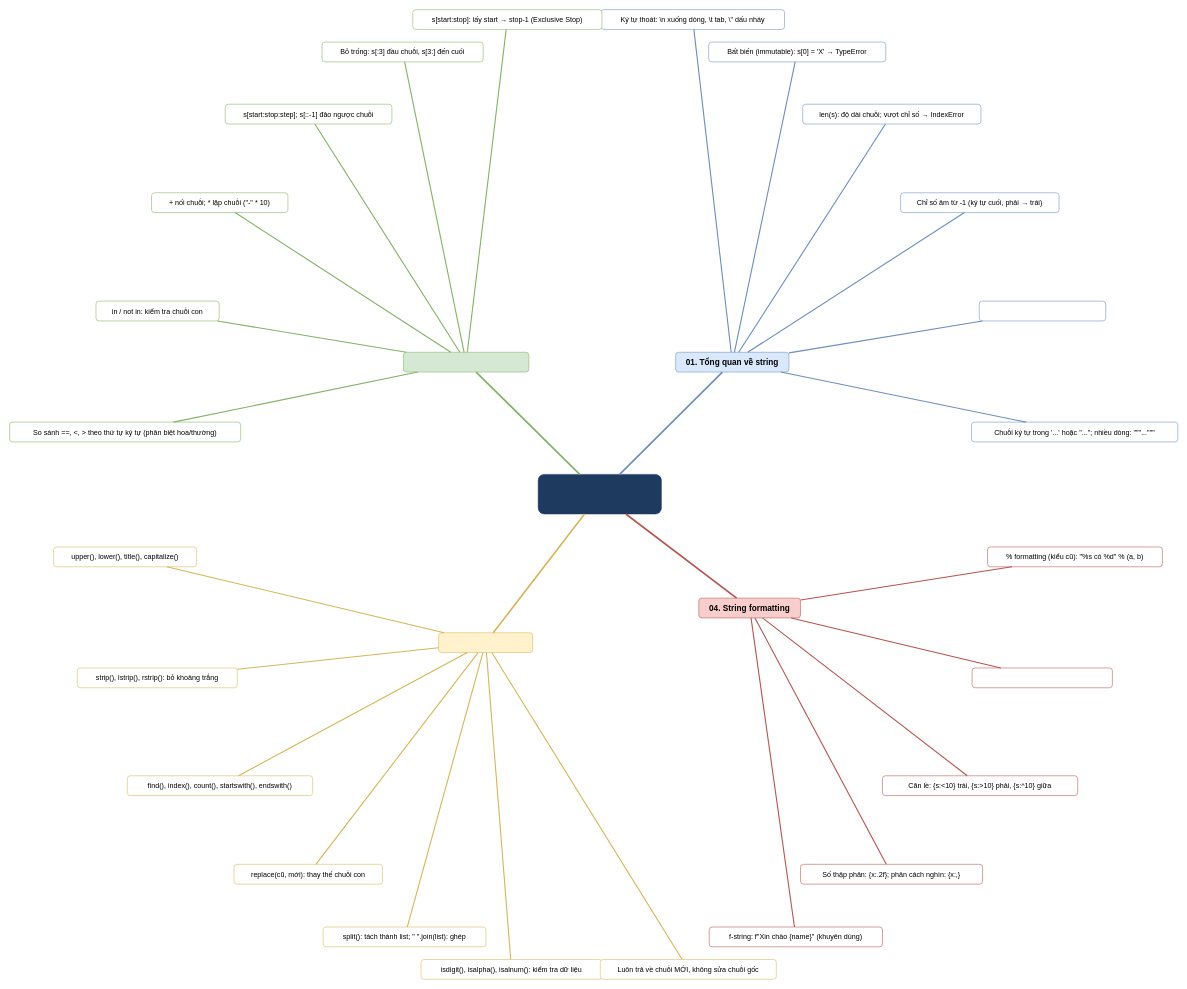
Some shapes in this 1187 by 989 pixel diagram are drawn without their labels. The shapes that lost their labels are listed below. From the top down, each one's centre as x and y in pixels, then its label:
(1042,311): Chỉ số dương từ 0 (trái → phải)
(466,362): 02. Slicing + Toán tử chuỗi
(599,494): Python Session 7 String (Chuỗi)
(485,642): 03. String methods
(1042,677): str.format(): "{} - {}".format(a, b)
